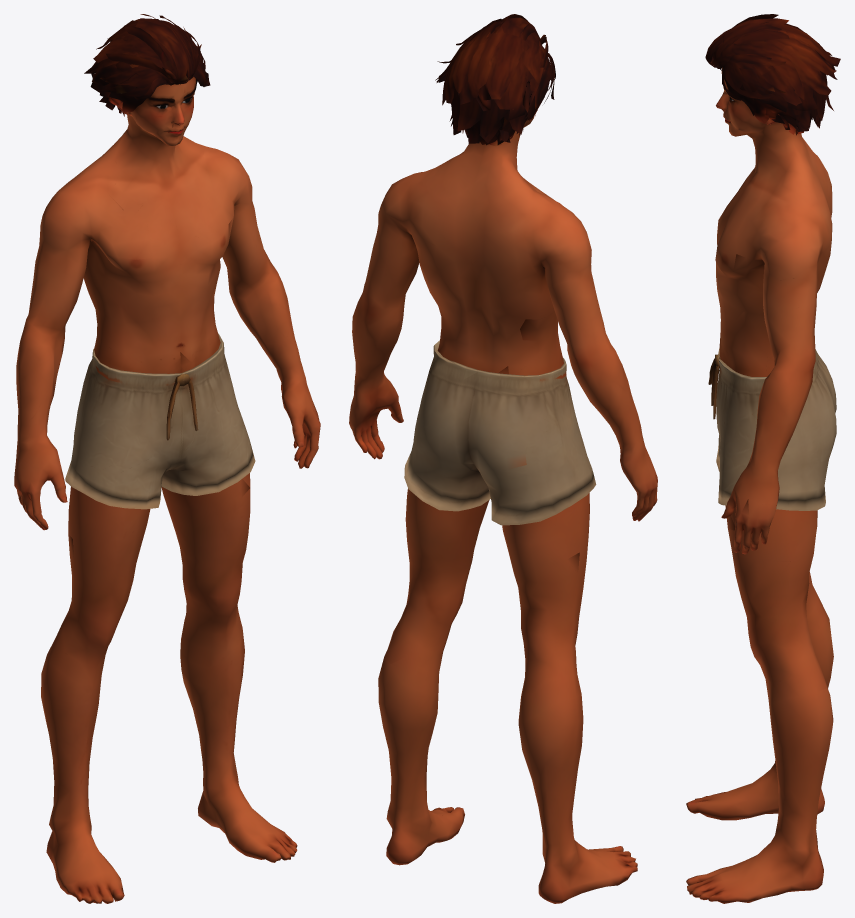
Rendered from koerper.glb.
3 views of the same model, side by side, from view 1: azimuth 30°, elevation 25°; view 2: azimuth 150°, elevation 25°; view 3: azimuth 270°, elevation 25° (orthographic).
Visible parts, largest first — view 1: koerper; view 2: koerper; view 3: koerper.
Part boxes in pixels (x1,y1,x2,y2): koerper: (14,14,320,903); koerper: (349,14,657,903); koerper: (686,14,840,903).
Size of the model in its own units: 0.6704 by 1.8 by 0.3043.
1 material, 1 textured.
